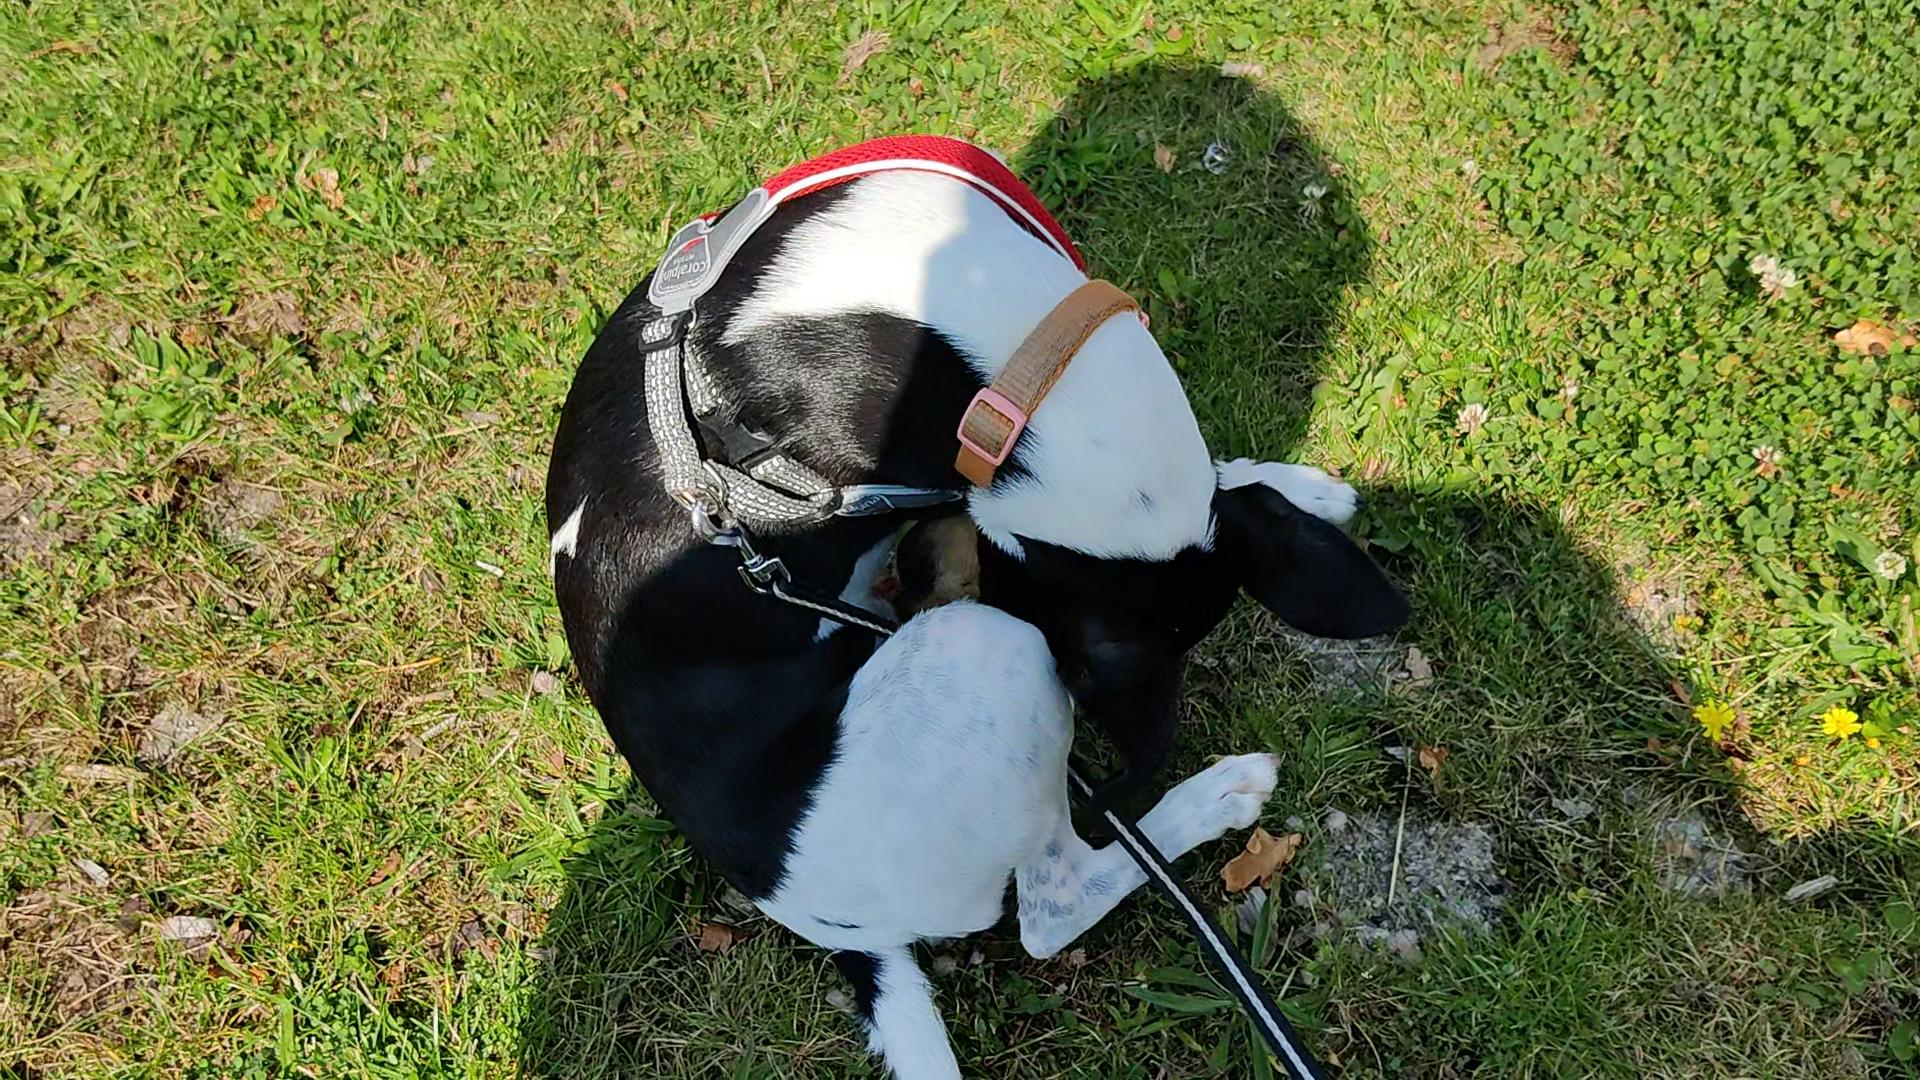Dog: (534, 131, 1416, 1079)
